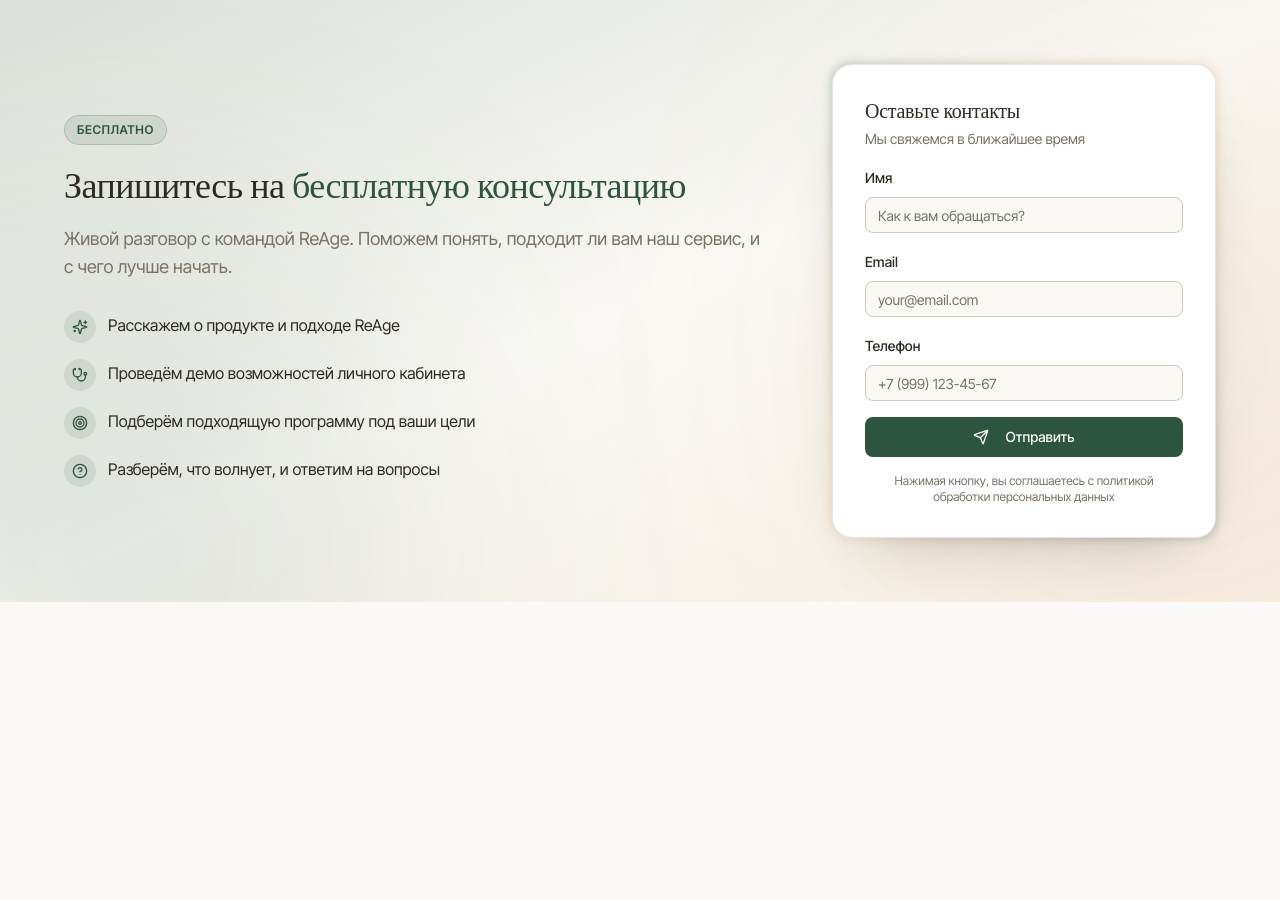
ConsultationCtaBlock › shows email format error
In the field labelled "Имя": (1024, 215) [865,197,1183,233], type "Иван"
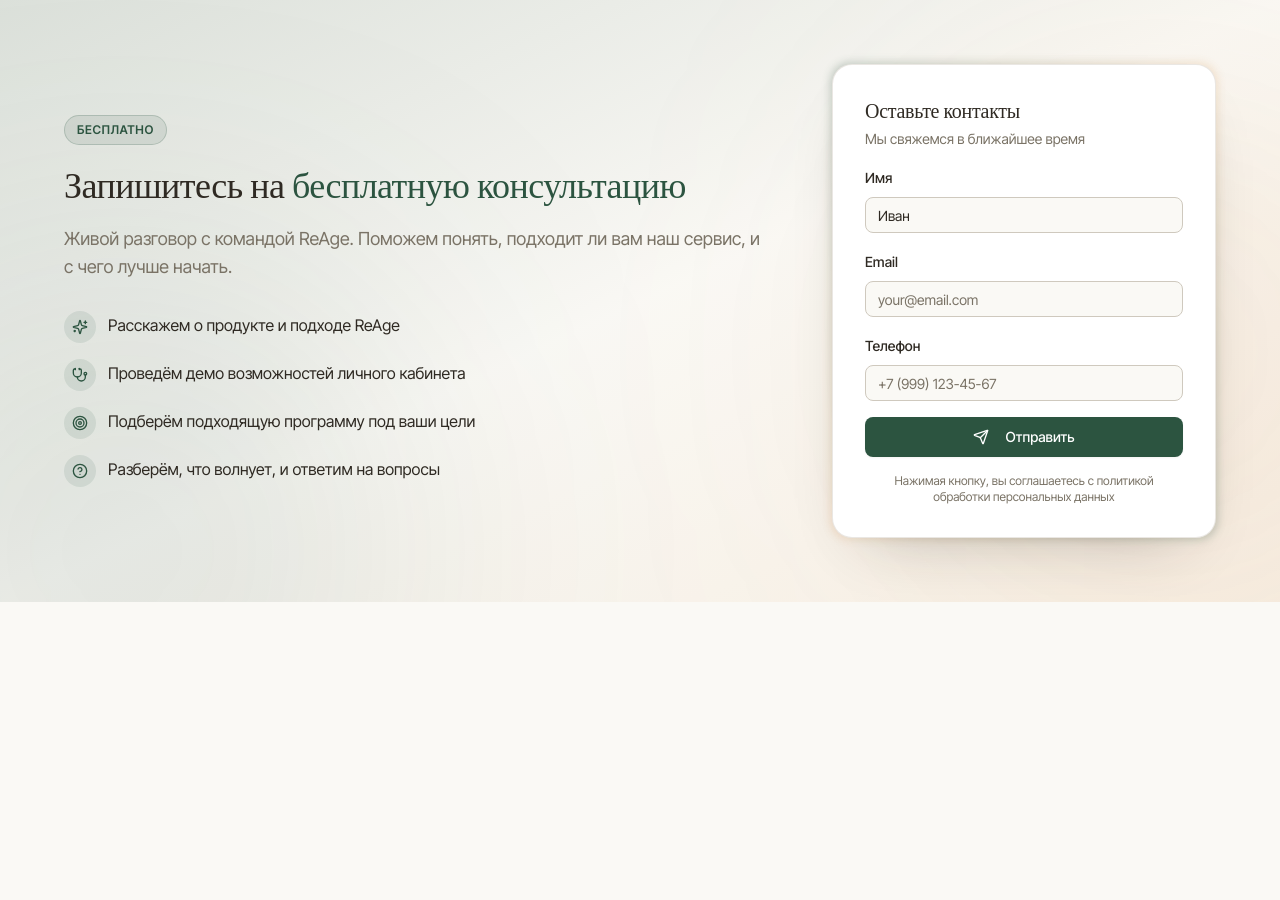
In the field labelled "Email": (1024, 299) [865,281,1183,317], type "not-an-email"
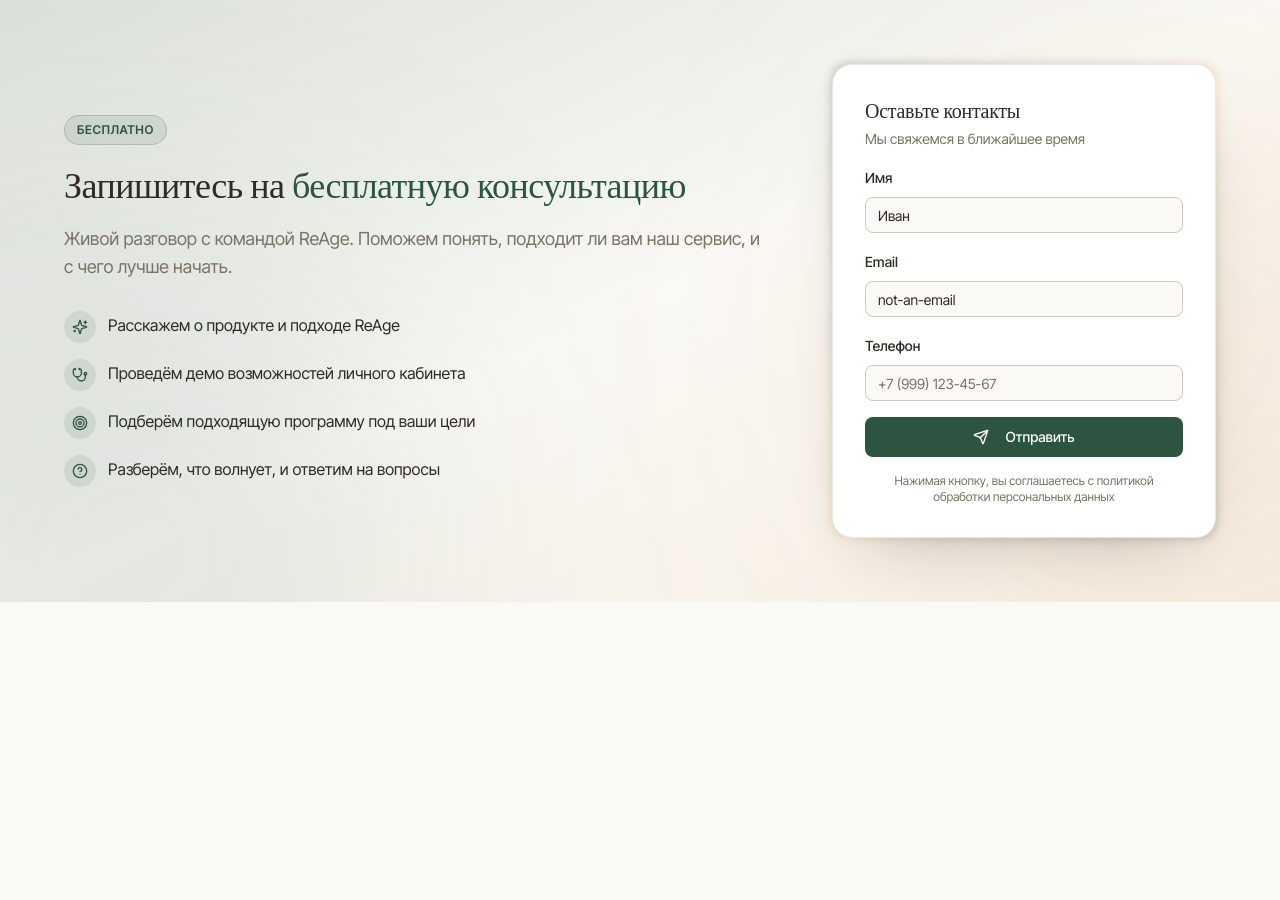
// Bypass HTML5 email validation in jsdom by submitting the form directly
Submit the form, box [865,97,1183,505]
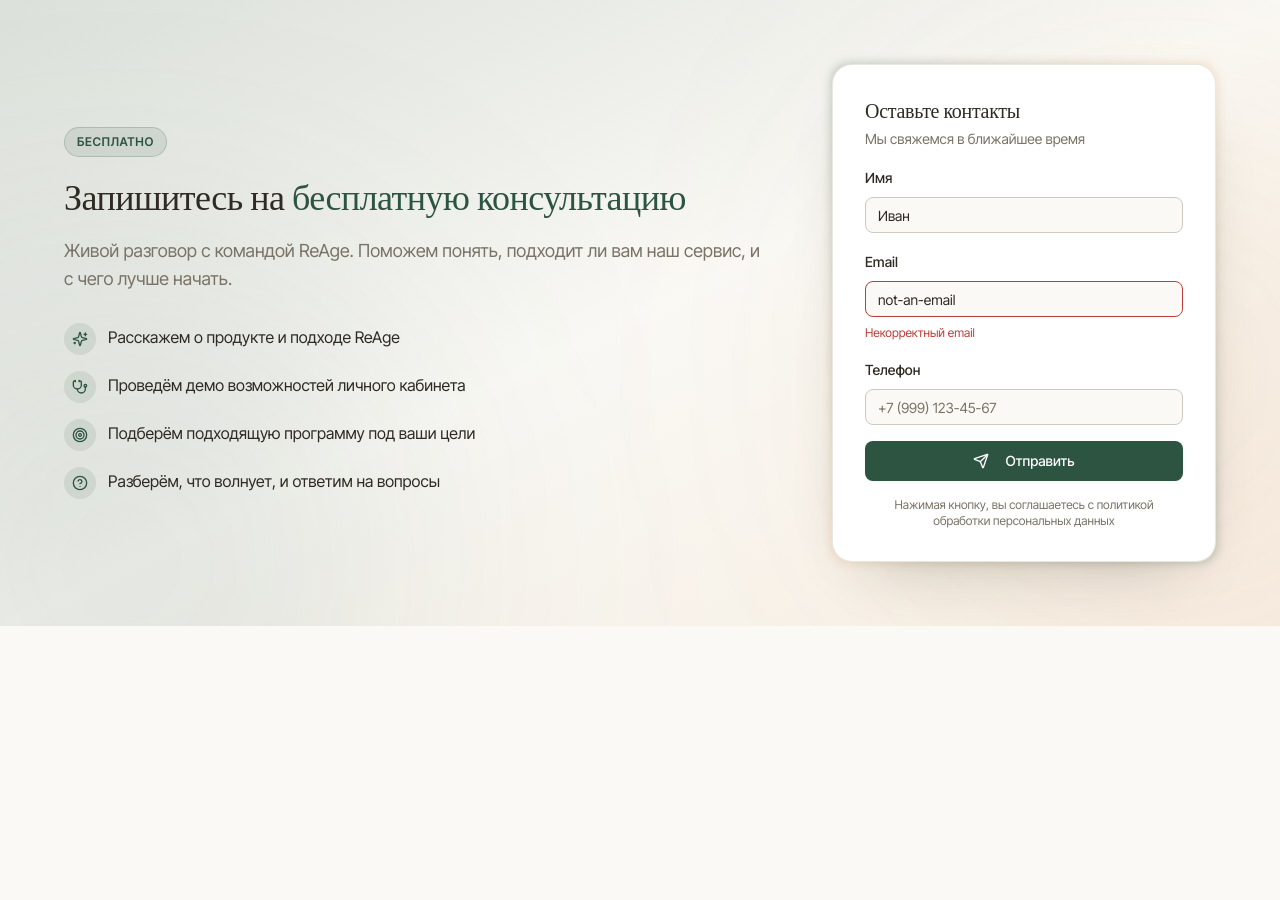
Result: the text "Некорректный email" is shown at [865,325,975,340]
